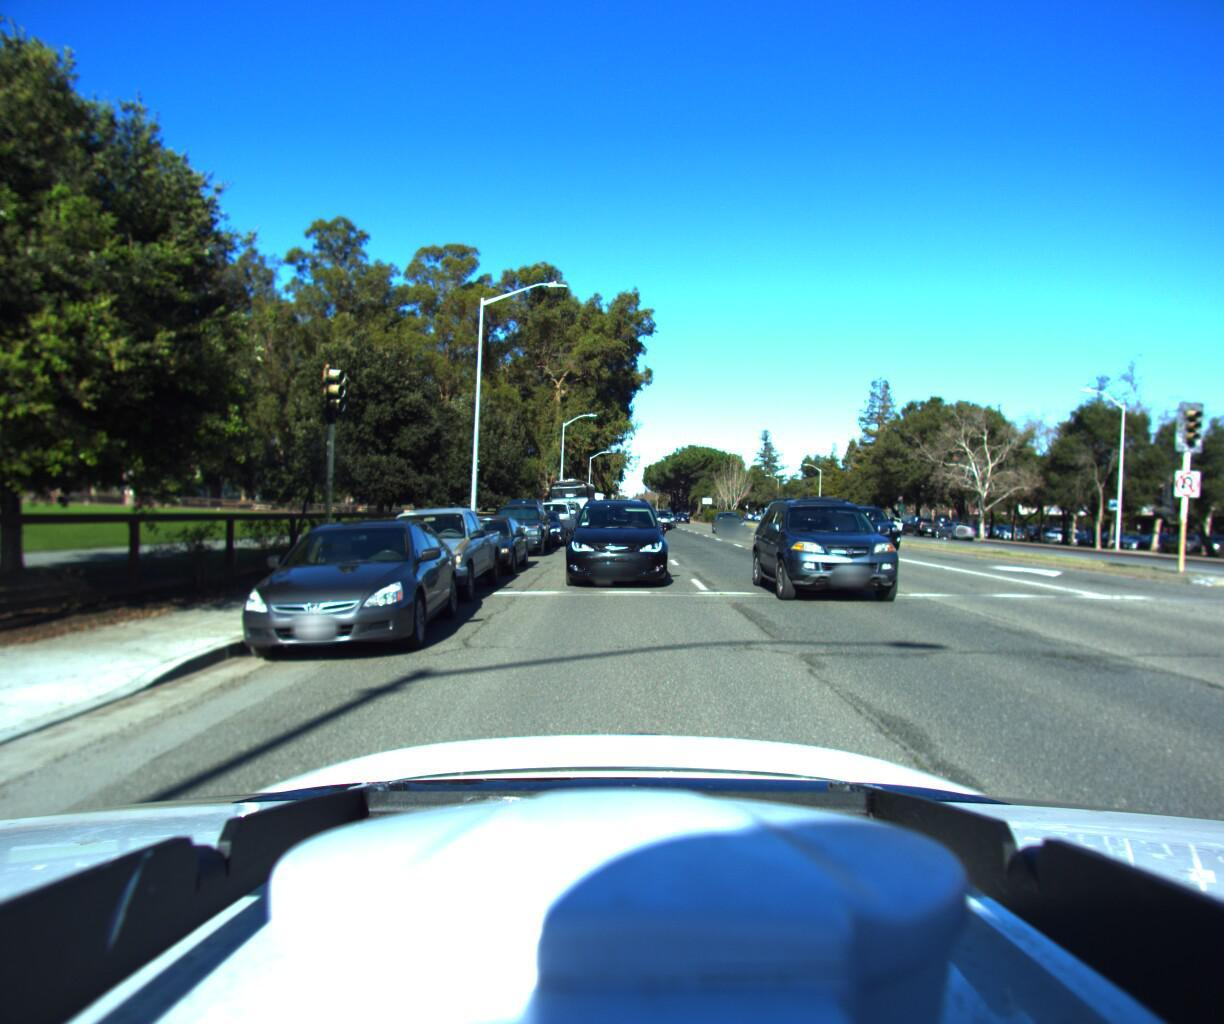bus: (545, 474, 599, 538)
car: (215, 513, 467, 672), (753, 488, 953, 622), (352, 504, 507, 615), (561, 494, 666, 594), (430, 513, 535, 581), (483, 496, 555, 560), (834, 505, 920, 552), (527, 500, 578, 544), (516, 510, 569, 551), (541, 499, 586, 540), (931, 520, 979, 542), (899, 515, 942, 538), (711, 511, 750, 536), (653, 507, 676, 528)
other_vehicle: (571, 489, 607, 529)
